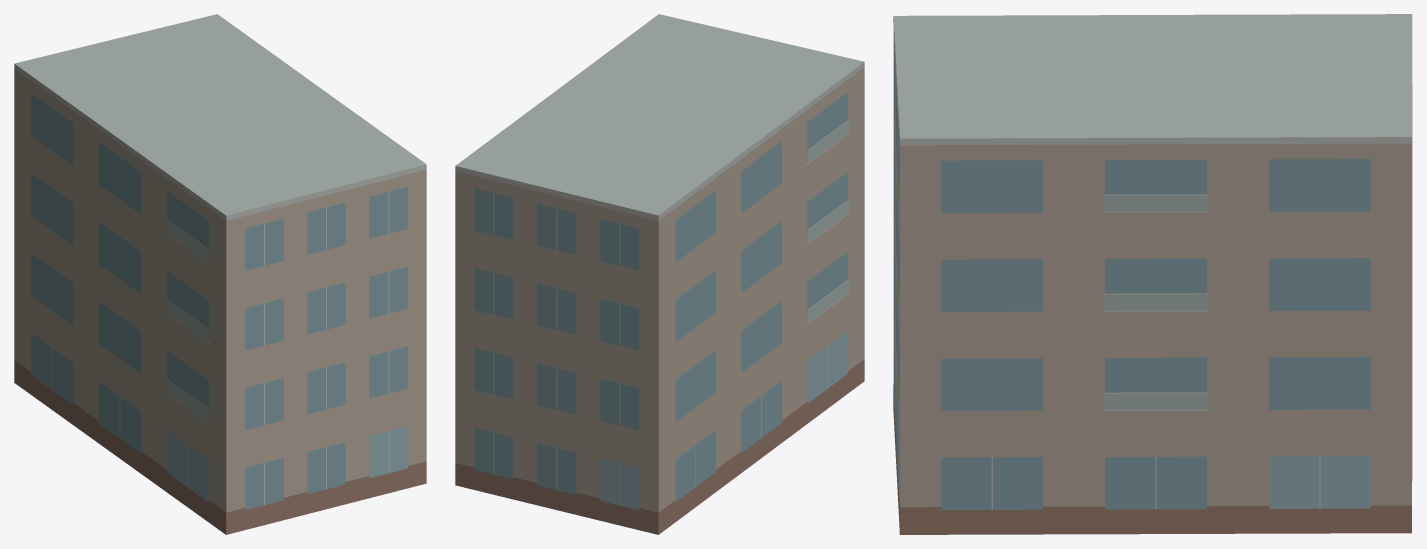
The model's file is survey-upis-32579455.glb.
3 renders of one model, left to right at view 1: azimuth 30°, elevation 25°; view 2: azimuth 150°, elevation 25°; view 3: azimuth 270°, elevation 25°, orthographic. The views are drawn at different scales.
Parts seen in each view (by area): view 1: survey-upis-32579455.tmp; view 2: survey-upis-32579455.tmp; view 3: survey-upis-32579455.tmp.
Boxes of the visible parts, bbox=[...] form: survey-upis-32579455.tmp: bbox=[14, 14, 426, 534]; survey-upis-32579455.tmp: bbox=[455, 14, 864, 534]; survey-upis-32579455.tmp: bbox=[893, 14, 1412, 534].
Size of the model in its own units: 10.06 by 14.88 by 17.67.
